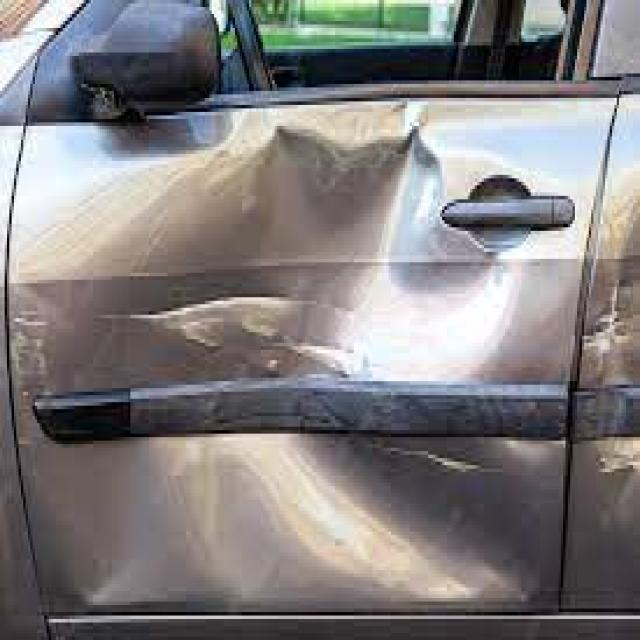moderate: (0, 77, 559, 506)
